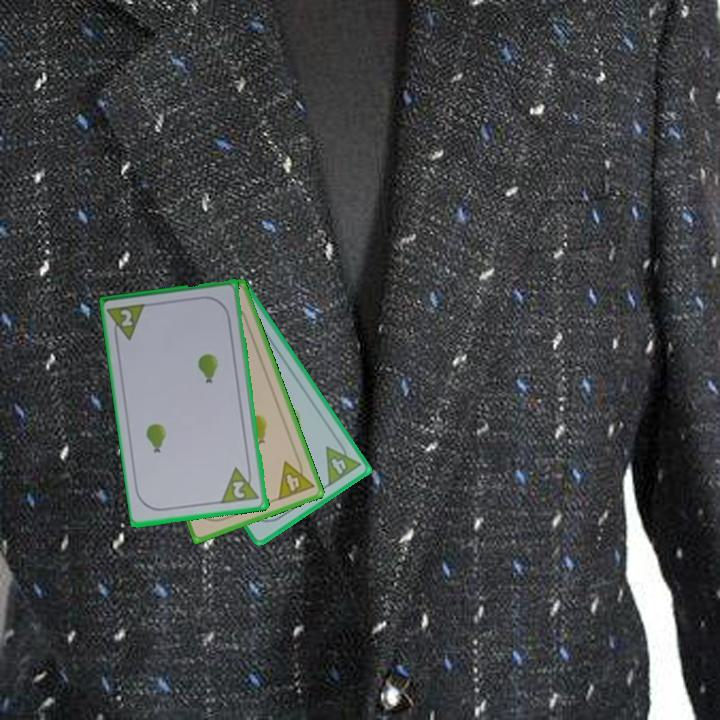2p: (218, 462, 263, 507), (105, 300, 150, 345)
4p: (322, 436, 364, 489), (274, 453, 317, 503)
